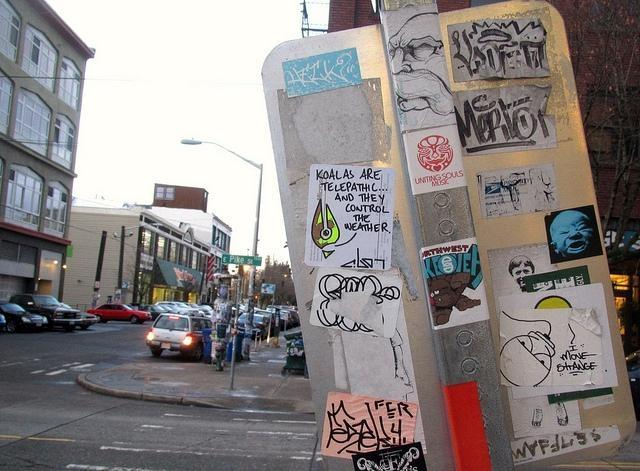car: (146, 312, 210, 362), (0, 302, 50, 332), (87, 302, 152, 323), (62, 302, 100, 330), (237, 313, 270, 339), (140, 304, 183, 320), (162, 304, 190, 316), (256, 309, 274, 321), (172, 301, 192, 309), (187, 308, 204, 316)
truck: (11, 290, 82, 331)
